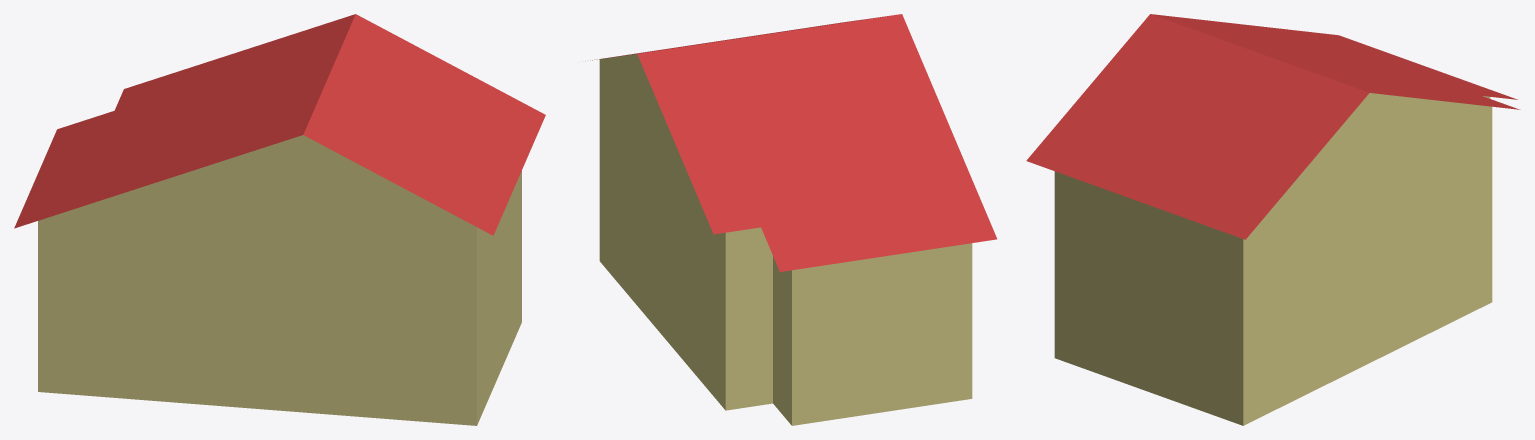
The picture shows the model from 3 angles, left to right: view 1: azimuth 30°, elevation 25°; view 2: azimuth 150°, elevation 25°; view 3: azimuth 270°, elevation 25°; orthographic projection. The views are drawn at different scales.
Parts seen in each view (by area): view 1: group_5, group_3, group_4; view 2: group_5, group_3, group_4; view 3: group_5, group_3, group_4.
Part boxes in pixels (box(x1,y1,x2,y2)): group_5: box(38, 135, 521, 425); group_3: box(38, 14, 545, 216); group_4: box(14, 14, 545, 235); group_5: box(599, 54, 972, 425); group_3: box(585, 14, 971, 253); group_4: box(637, 15, 996, 271); group_5: box(1054, 93, 1492, 425); group_3: box(1055, 14, 1490, 239); group_4: box(1026, 14, 1520, 239).
Bounding box in the file's own units: 20.51 × 18.3 × 11.58.
